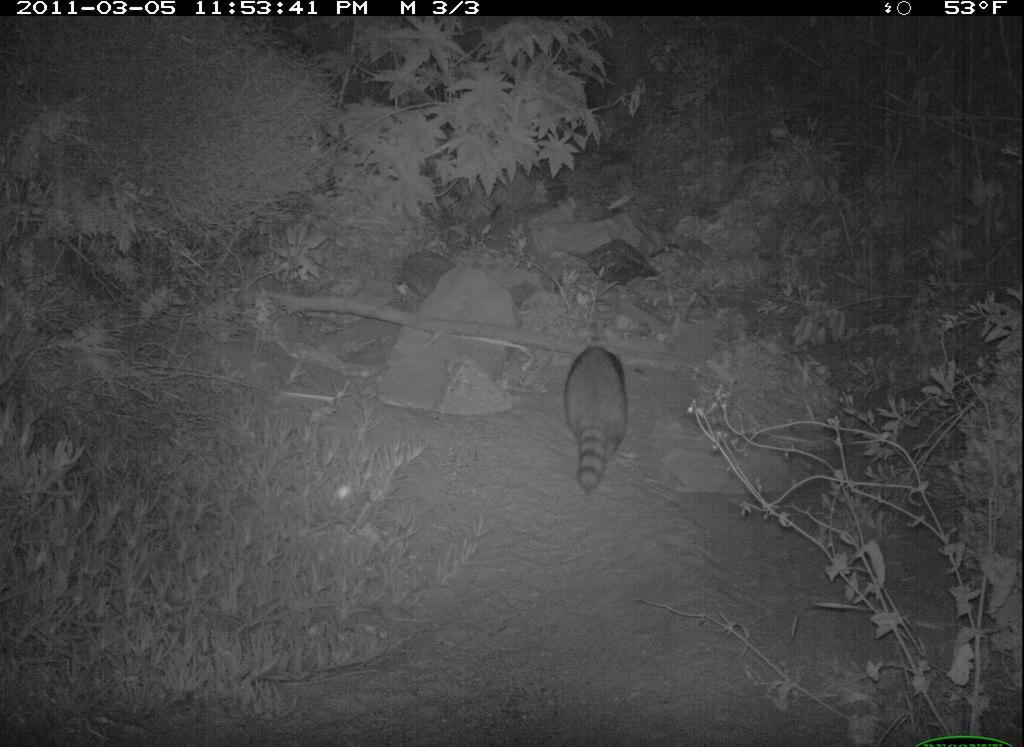raccoon: (533, 322, 661, 529)
